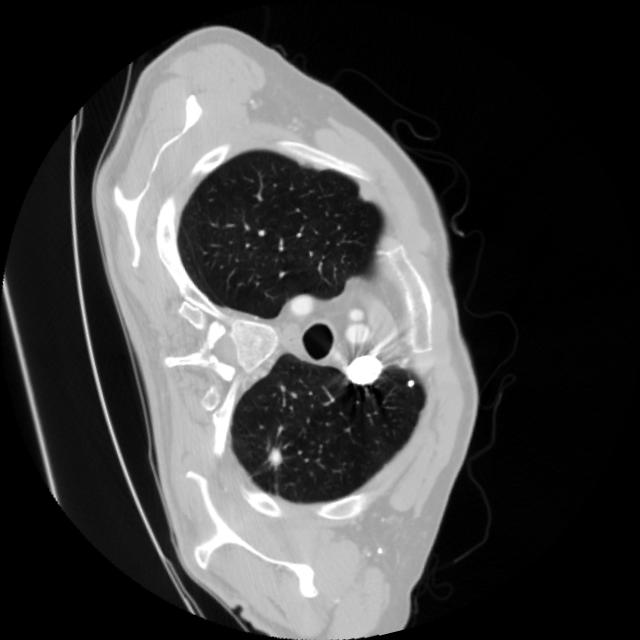nodule: (252, 434, 300, 482)
